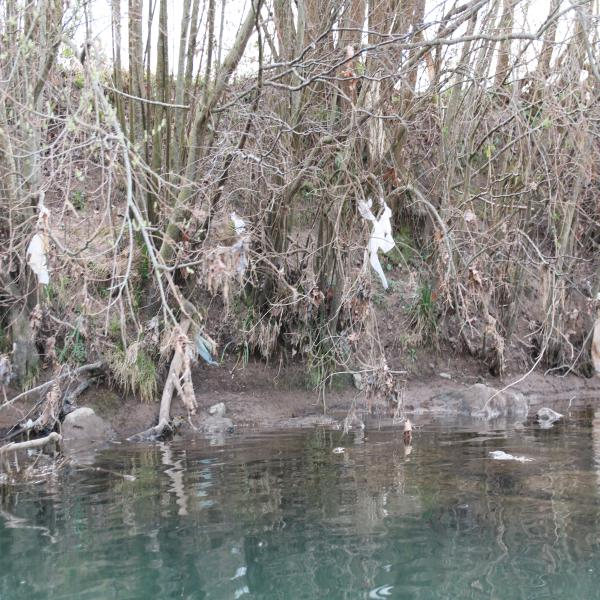fragments: (357, 200, 395, 289), (25, 191, 50, 284), (366, 70, 384, 155), (229, 213, 251, 274), (197, 325, 219, 364)
